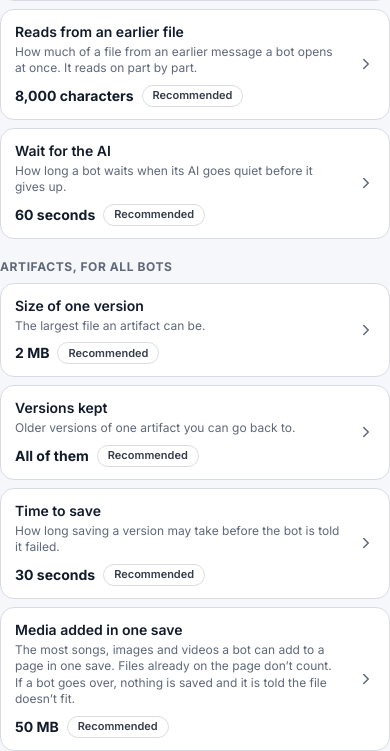
Test case: Universe AI limits › saves a picked value and shows it, with what is recommended next to it
(page scrolled)
Click the button with test id "limit-size": coordinates (195, 330) [0,282,389,377]
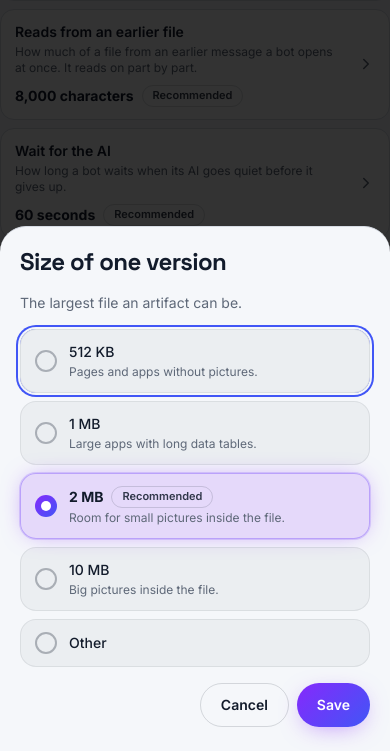
Click the radio button labelled "10 MB Big pictures inside the file.": coordinates (195, 579) [20,547,370,611]
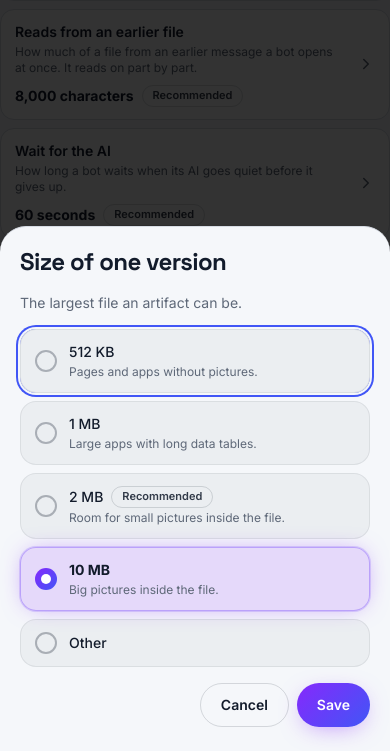
Click the button "Save": coordinates (333, 705) [297,683,370,727]
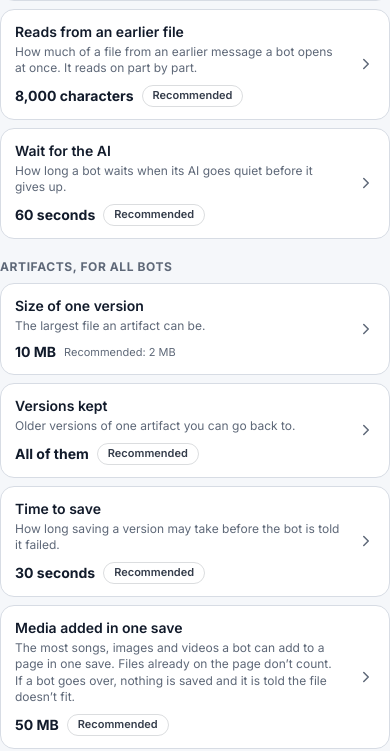
Result: the text "Recommended: 2 MB" is shown at [64,344,176,360]
